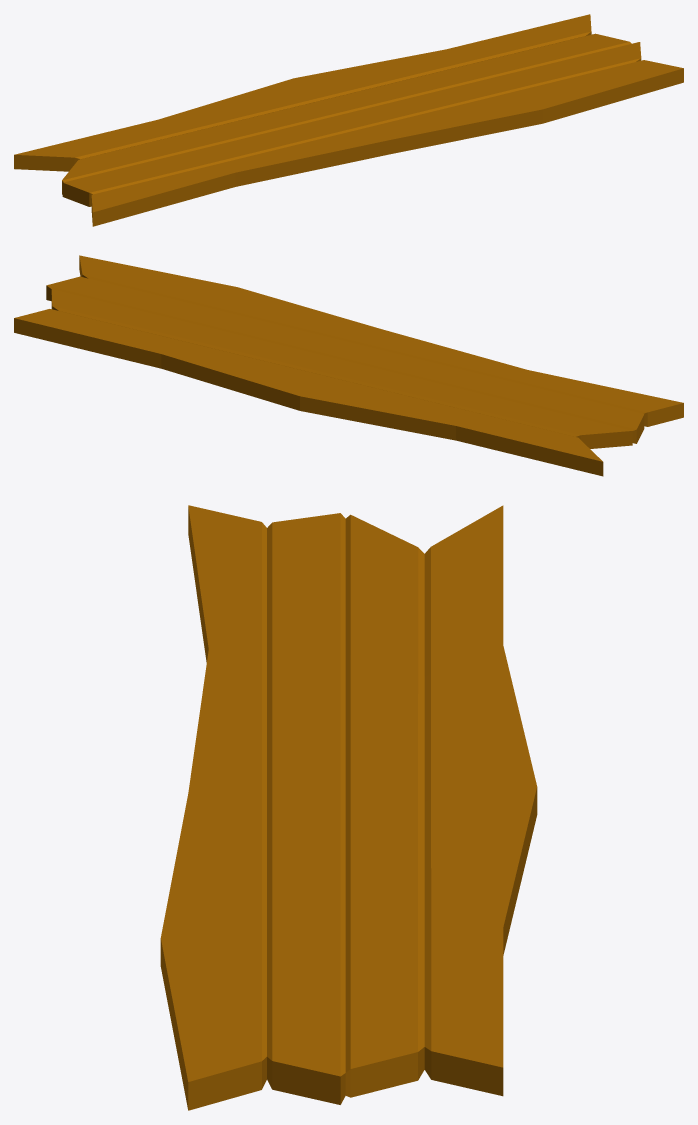
The model's file is BrokenWood_01.fbx.
The picture shows the model from 3 angles, top to bottom: view 1: azimuth 30°, elevation 25°; view 2: azimuth 150°, elevation 25°; view 3: azimuth 270°, elevation 25°; orthographic projection. The views are drawn at different scales.
Visible parts, largest first — view 1: BrokenWood_01; view 2: BrokenWood_01; view 3: BrokenWood_01.
Part boxes in pixels (x1,y1,x2,y2): BrokenWood_01: (14, 14, 683, 226); BrokenWood_01: (14, 255, 683, 476); BrokenWood_01: (160, 505, 537, 1110).
Bounding box in the file's own units: 57.72 × 1.34 × 15.91.
